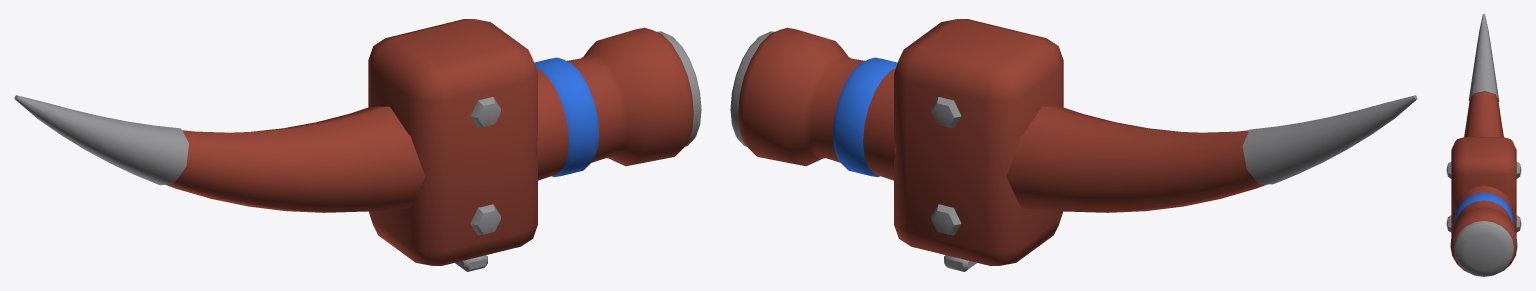
File: Kit_Pick_Head.glb
3 views of the same model, side by side, from view 1: azimuth 30°, elevation 25°; view 2: azimuth 150°, elevation 25°; view 3: azimuth 270°, elevation 25° (orthographic). The views are drawn at different scales.
Visible parts, largest first — view 1: Kit_Pick_Head; view 2: Kit_Pick_Head; view 3: Kit_Pick_Head.
Part boxes in pixels (x1,y1,x2,y2): Kit_Pick_Head: (14, 19, 701, 271); Kit_Pick_Head: (730, 19, 1417, 271); Kit_Pick_Head: (1446, 14, 1521, 276).
Size of the model in its own units: 0.3897 by 0.1477 by 0.076.
